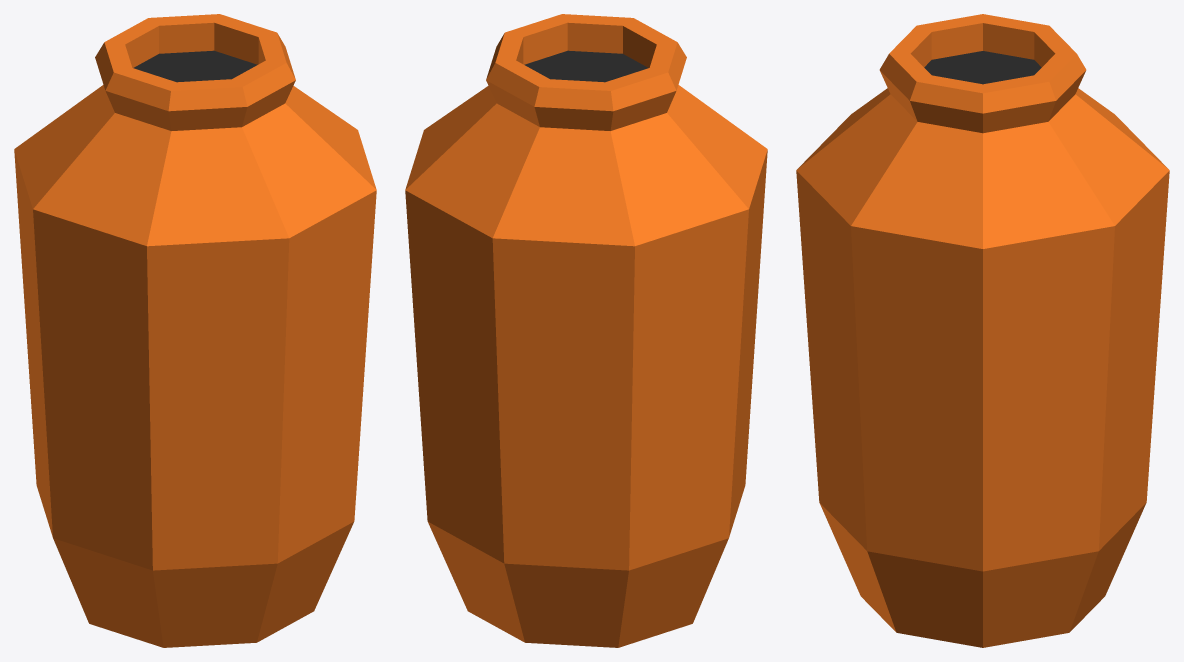
The model's file is fantasy_jar-big.fbx.
3 renders of one model, left to right at view 1: azimuth 30°, elevation 25°; view 2: azimuth 150°, elevation 25°; view 3: azimuth 270°, elevation 25°, orthographic.
Parts seen in each view (by area): view 1: fantasy_jar_big; view 2: fantasy_jar_big; view 3: fantasy_jar_big.
Part boxes in pixels (x1,y1,x2,y2): fantasy_jar_big: [14, 14, 376, 647]; fantasy_jar_big: [405, 14, 767, 647]; fantasy_jar_big: [796, 14, 1169, 647].
Size of the model in its own units: 121 by 200 by 121.
